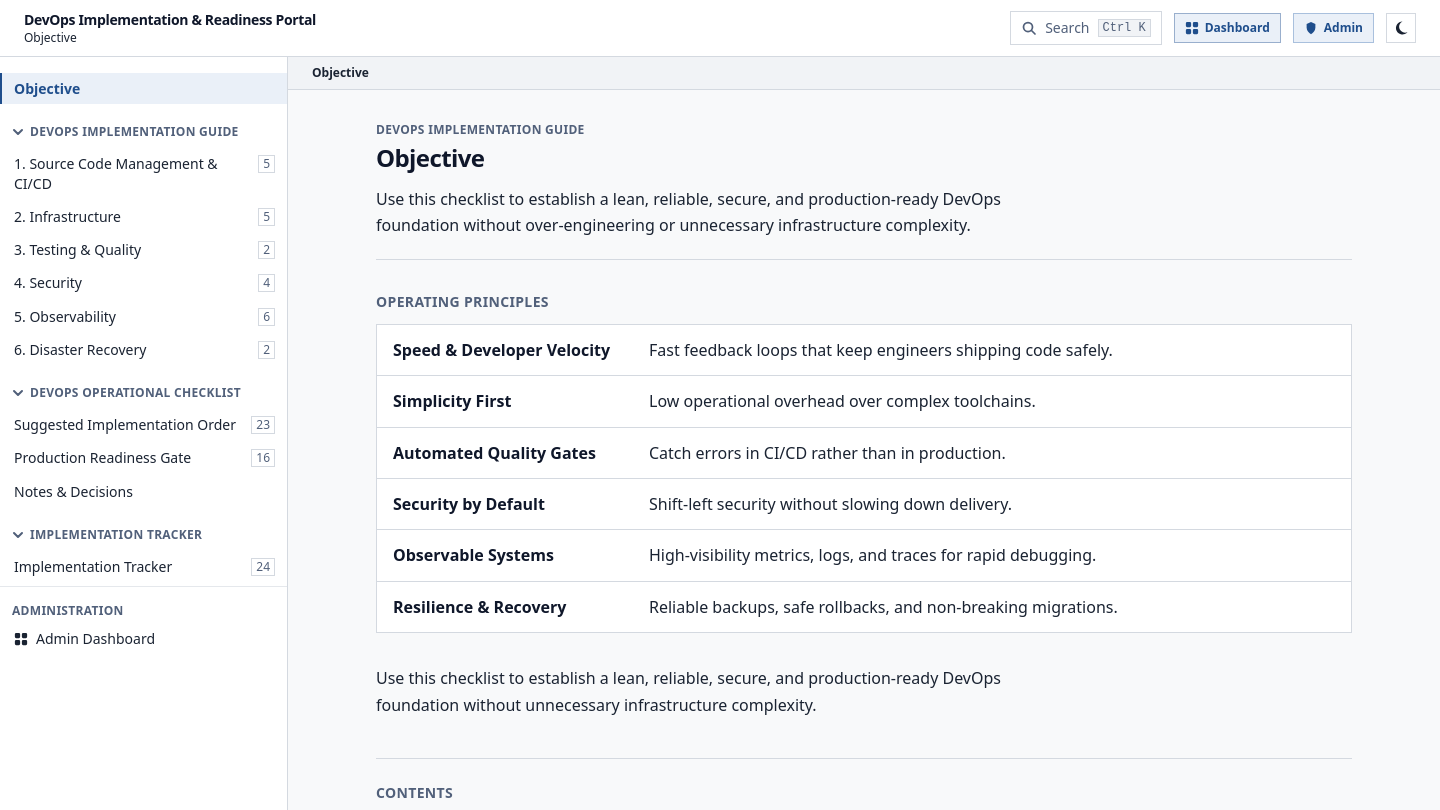
Admin and Normal User Authentication & Role System › allows switching from admin back to normal user
# Header shows Admin active
Click the button with aria-label "administrator active": (1333, 28) [1293,13,1374,43]
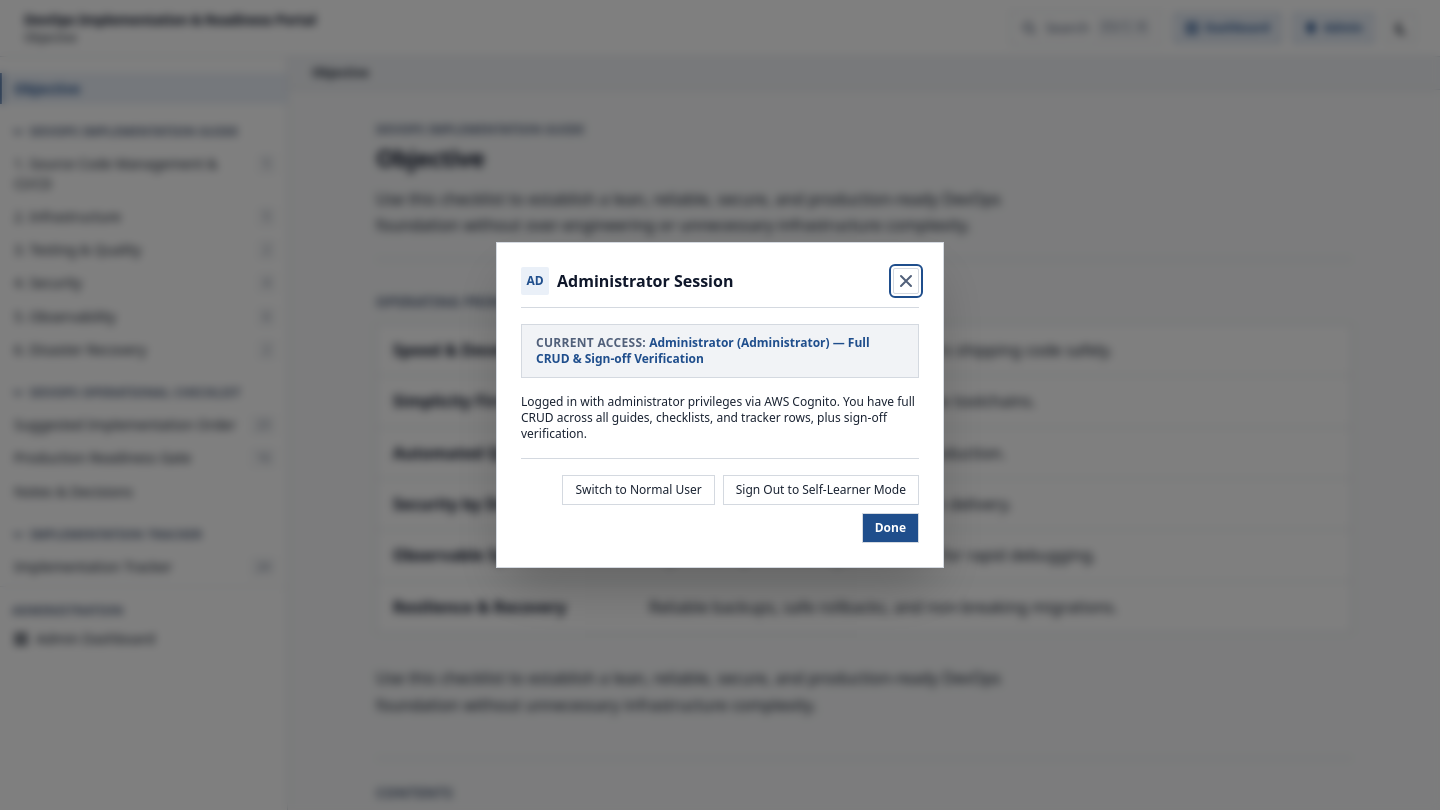
Expected: the dialog "Administrator Session" is shown, [496,242,944,568]
# Switch to normal user
Click the button "Switch to Normal User": (639, 490) [562,475,715,505]
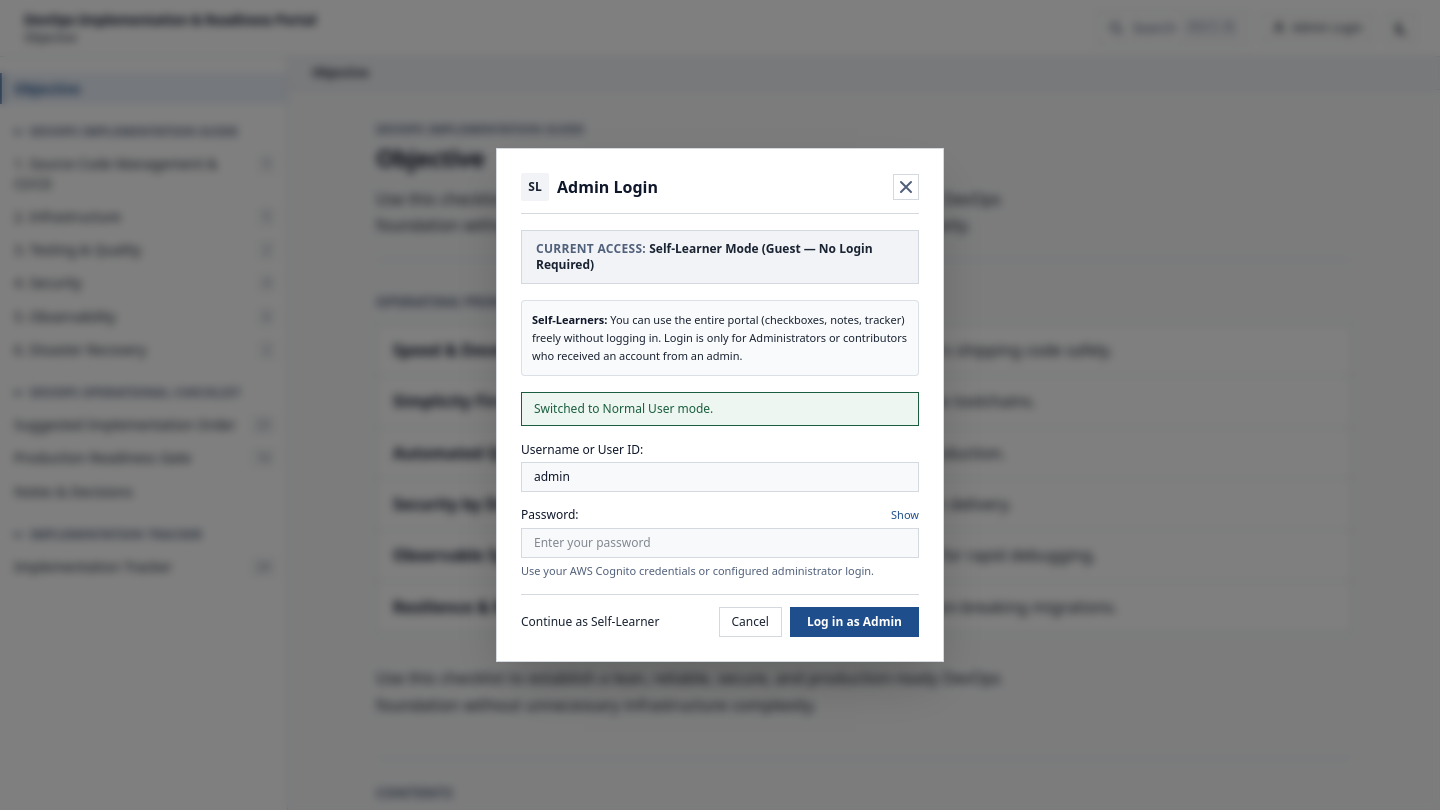
Expected: the message shows "Switched to Normal User", [534,400,713,417]
